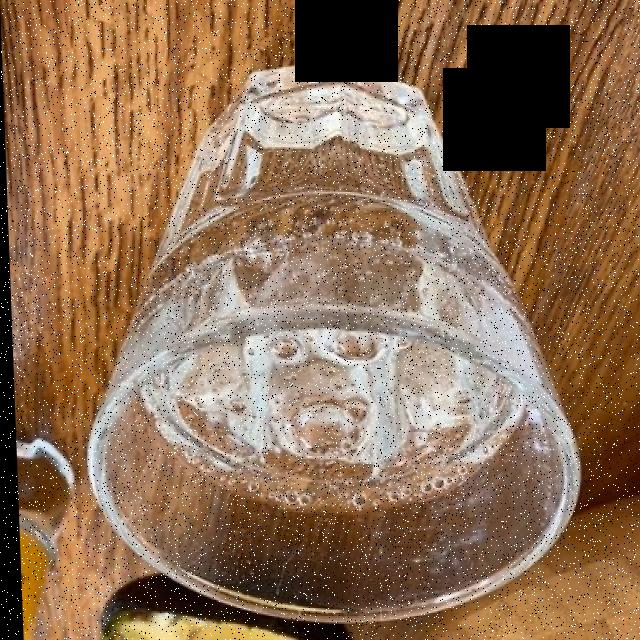water-mineral: (146, 329, 521, 519)
